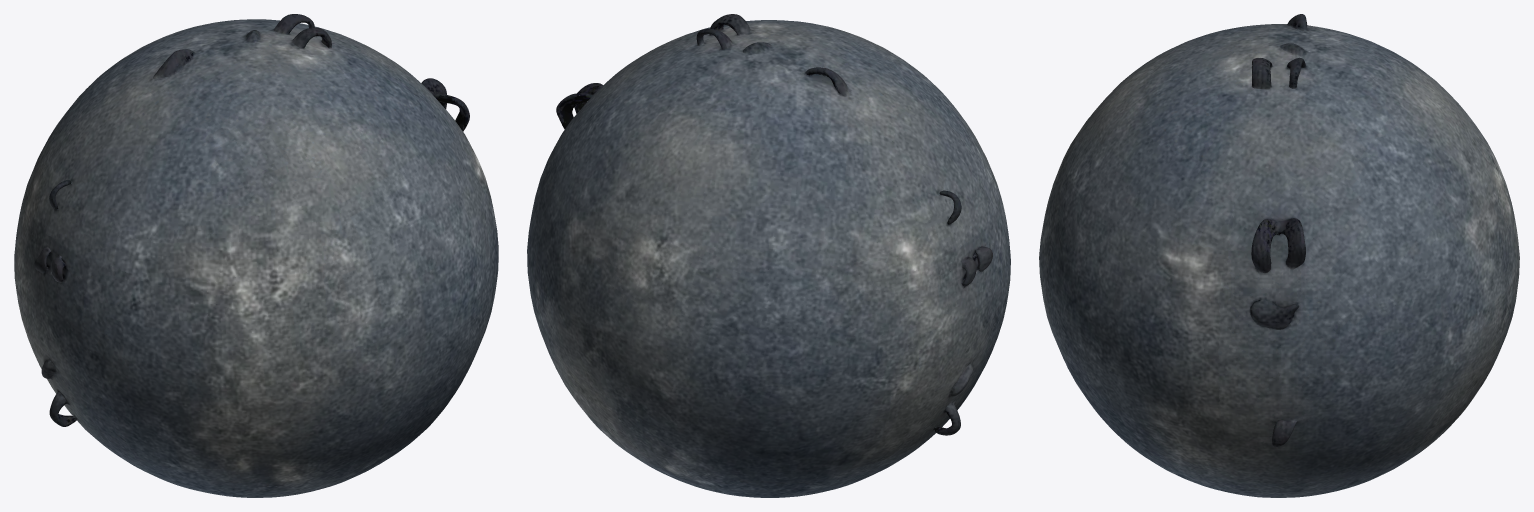
The model's file is c4_star.glb.
3 renders of one model, left to right at view 1: azimuth 30°, elevation 25°; view 2: azimuth 150°, elevation 25°; view 3: azimuth 270°, elevation 25°, orthographic.
Parts seen in each view (by area): view 1: geometry_0; view 2: geometry_0; view 3: geometry_0.
Part boxes in pixels (<box>): geometry_0: <box>14,14,498,497</box>; geometry_0: <box>527,14,1010,497</box>; geometry_0: <box>1039,14,1519,497</box>.
Size of the model in its own units: 1.39e+09 by 1.39e+09 by 1.38e+09.
1 material, 1 textured.
